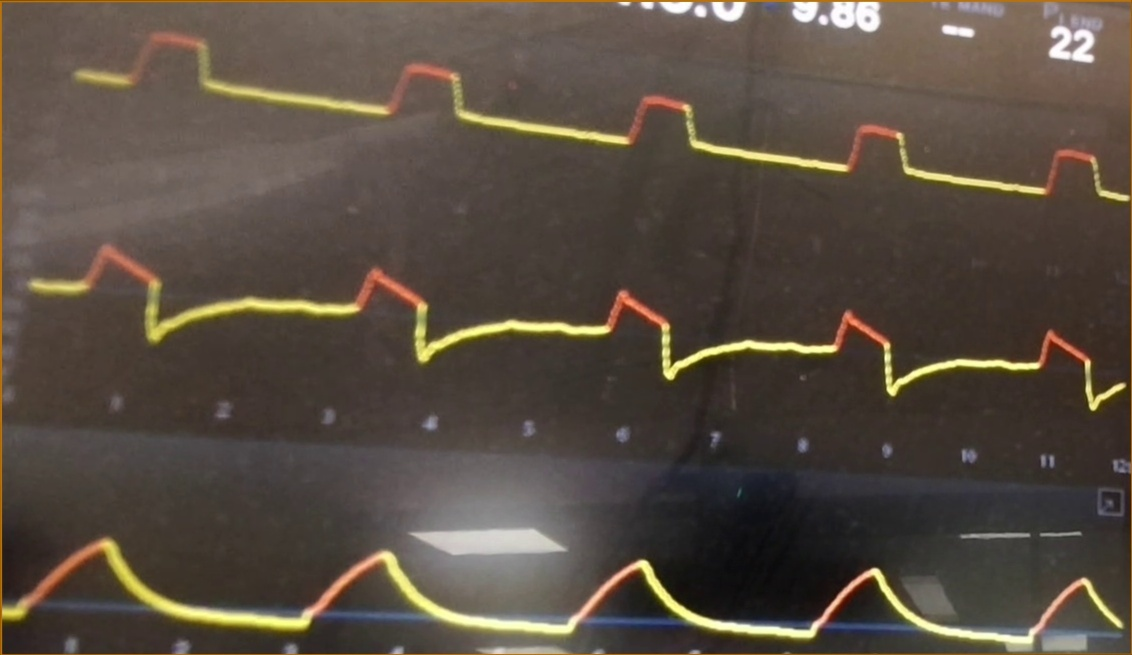Normal Flow: (35, 224, 1125, 418)
Normal Volume: (1, 512, 1120, 648)
